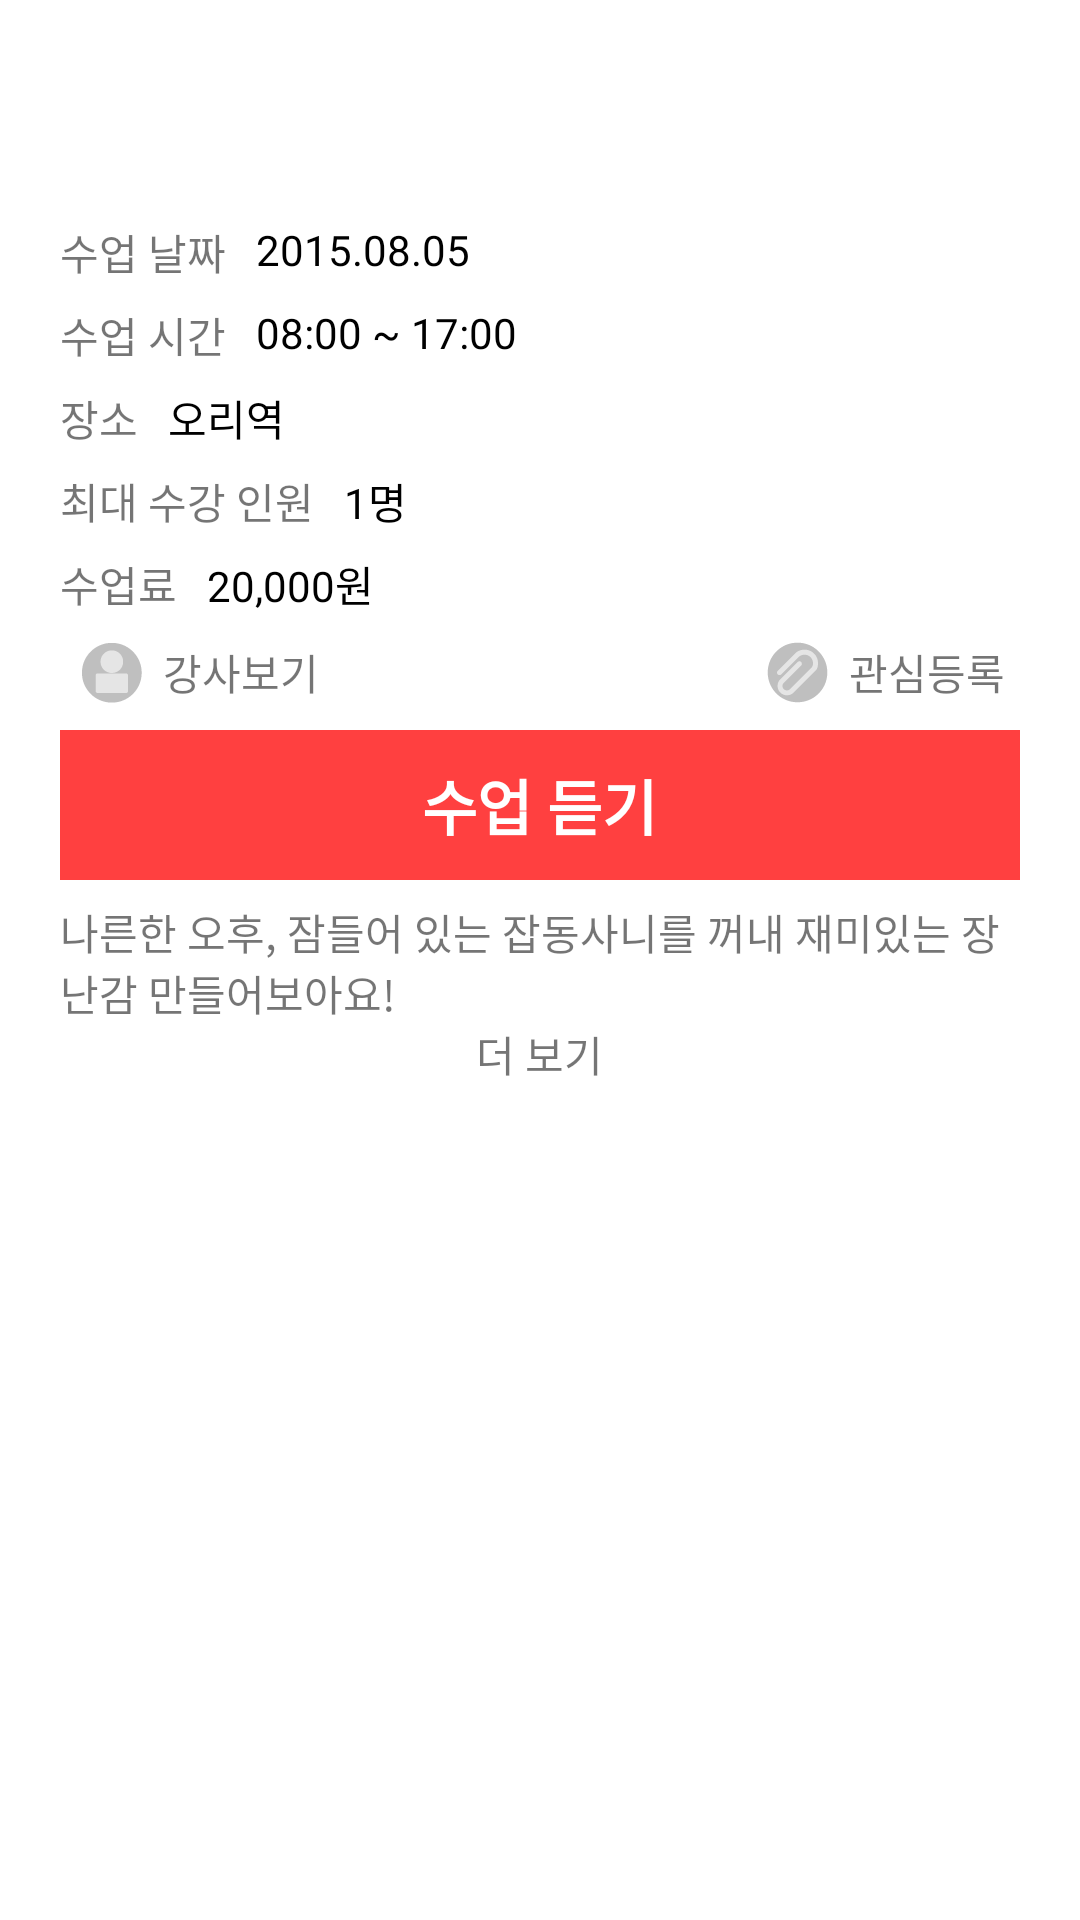

Where icons sit on this 1080 x 1920 app screen, as (x1, y1, x2, y2):
list profile: (82, 643, 142, 703)
